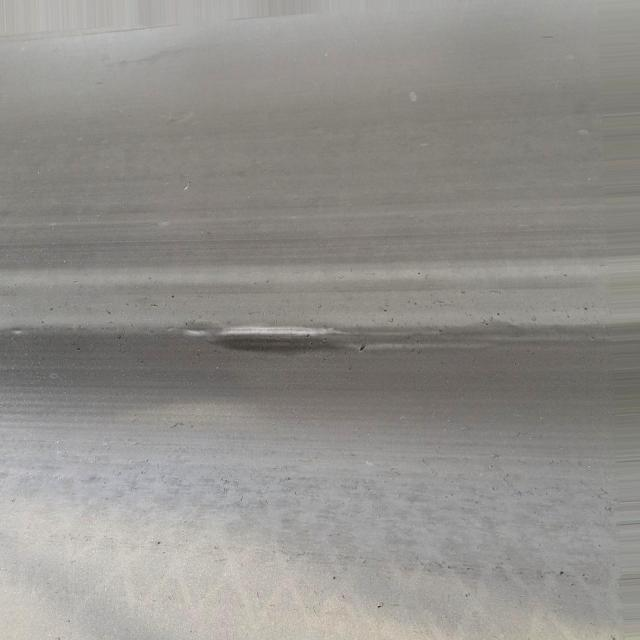Impact Damage: (174, 320, 348, 363)
